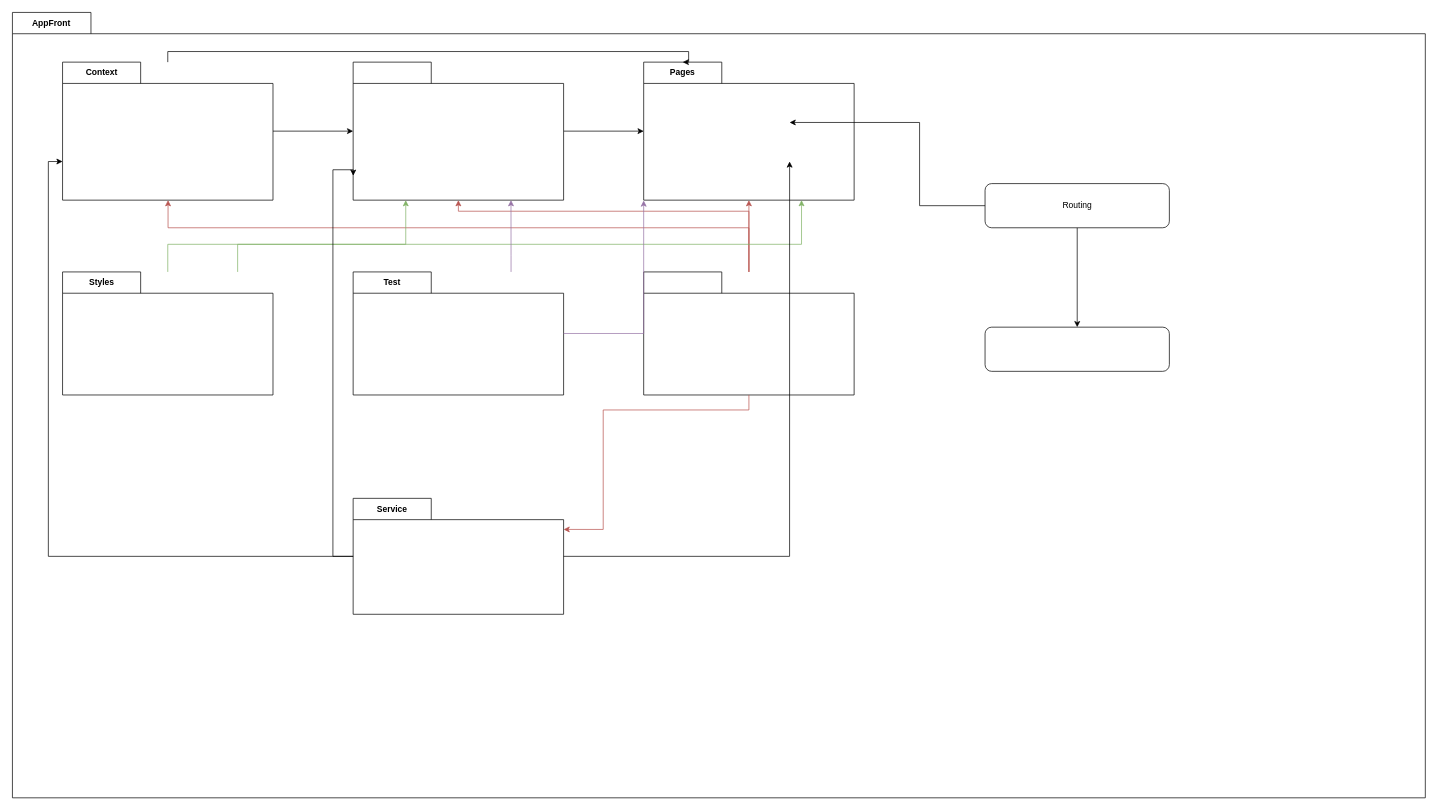
This 1438x811 diagram has some shape labels left out. The centre of each missing label's shape, as x and y in pixels:
App.js / App.ts: point (1076, 348)
Components: point (458, 130)
Models: point (748, 333)
